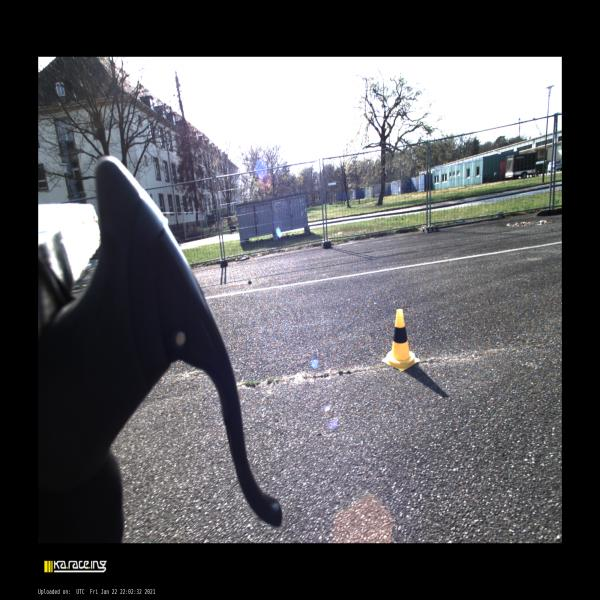yellow_cone: (382, 309, 420, 371)
